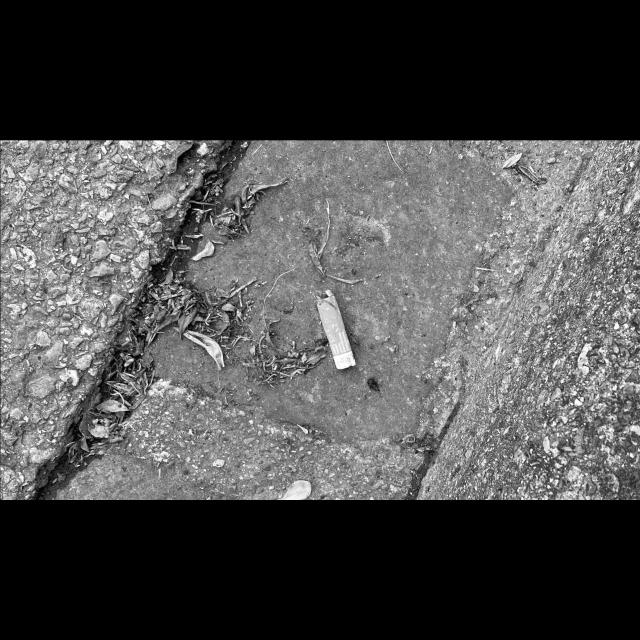cigarette: (314, 294, 356, 370)
